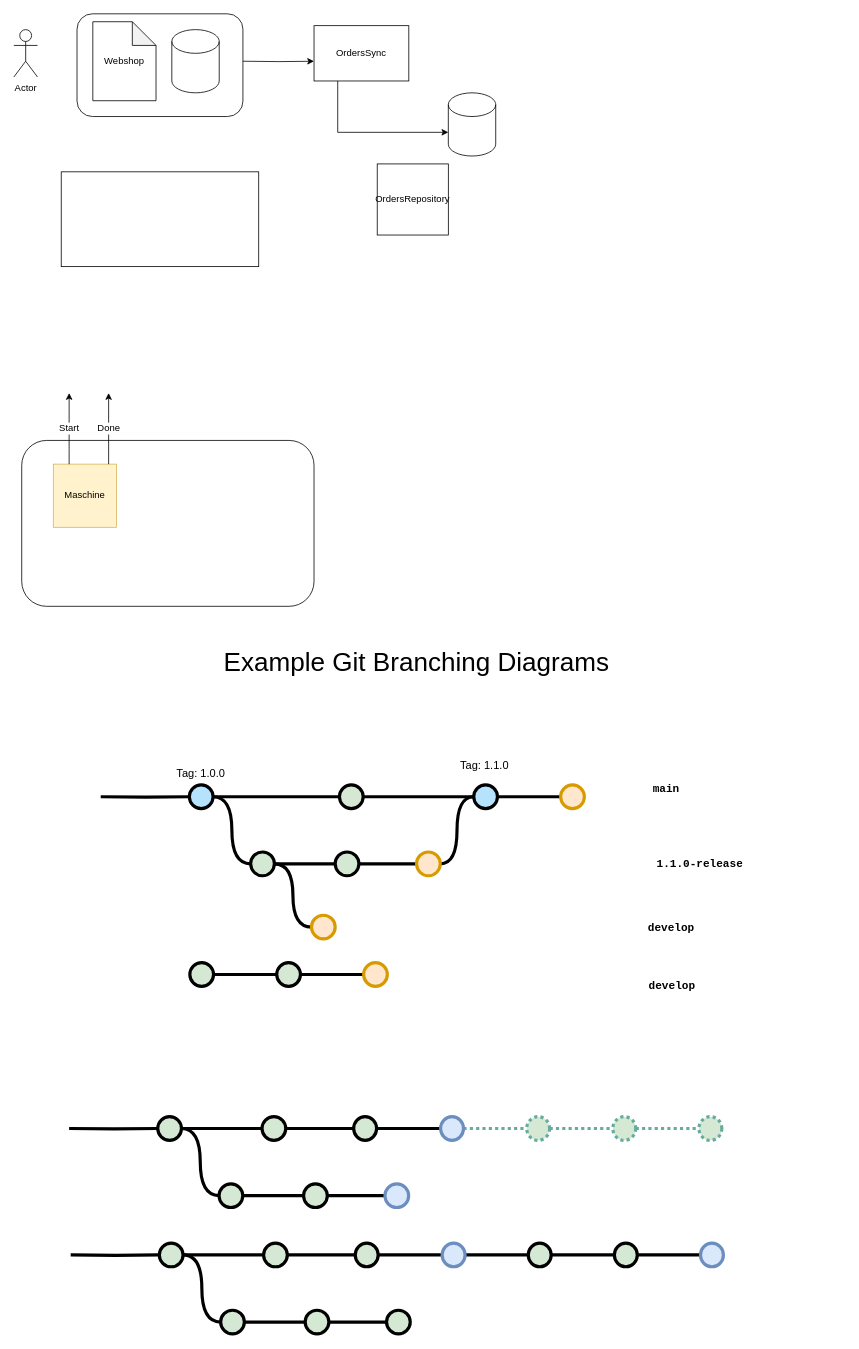
Some shapes in this 859 by 1349 pixel diagram are drawn without their labels. The centre of each missing label's shape, as x and y in pixels:
"Controller" belongs at (159,219).
"Orders" belongs at (195,61).
